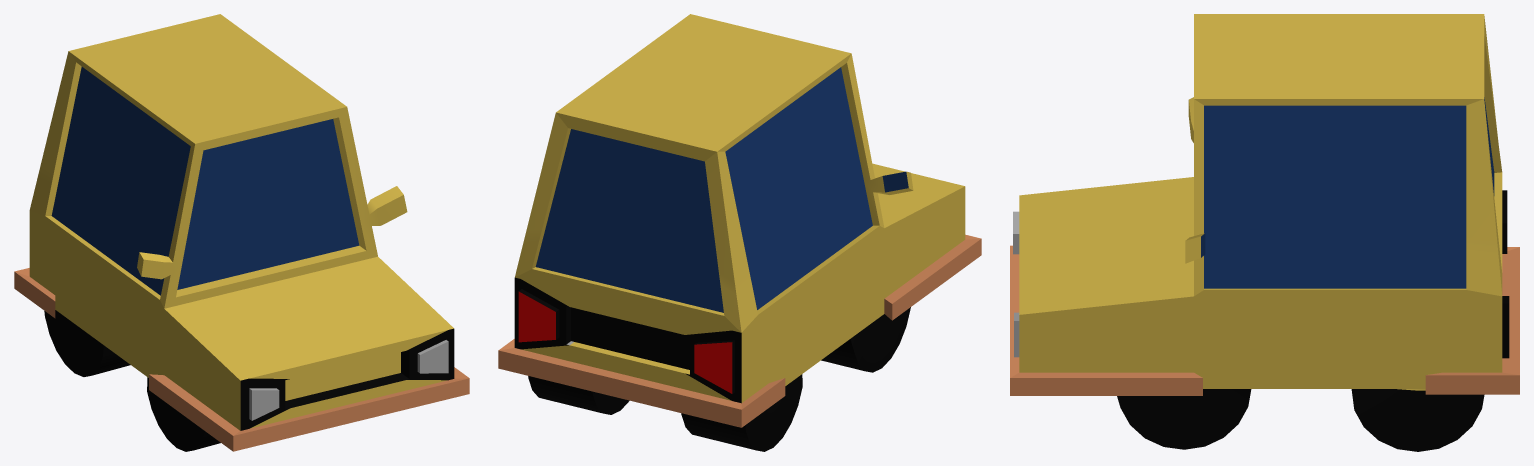
Rendered from Car.fbx.
3 renders of one model, left to right at view 1: azimuth 30°, elevation 25°; view 2: azimuth 150°, elevation 25°; view 3: azimuth 270°, elevation 25°, orthographic. The views are drawn at different scales.
Visible parts, largest first — view 1: pCylinder5; view 2: pCylinder5; view 3: pCylinder5.
Part boxes in pixels (box(x1,y1,x2,y2)): pCylinder5: box(14, 14, 469, 451); pCylinder5: box(498, 14, 981, 451); pCylinder5: box(1010, 14, 1519, 451).
Bounding box in the file's own units: 86.64 × 92.38 × 126.
